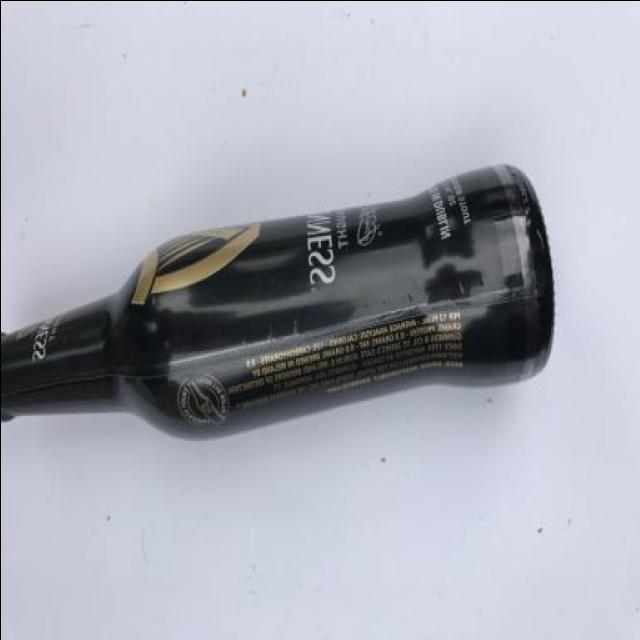glass: (0, 159, 554, 440)
